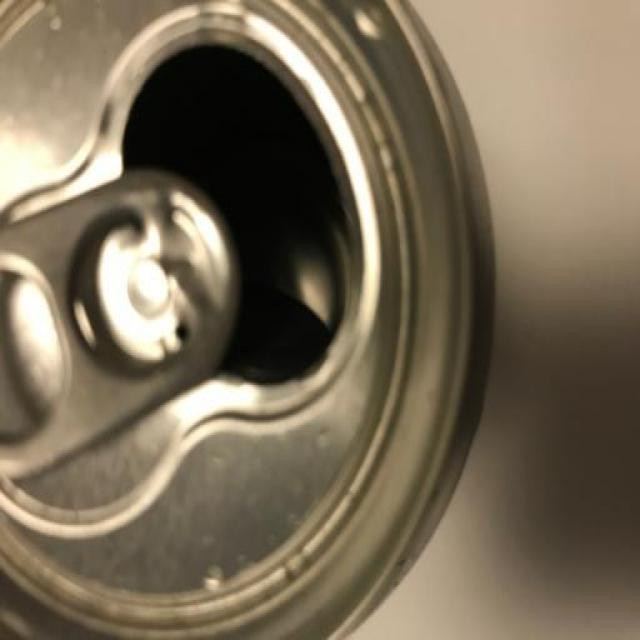metel: (7, 9, 441, 631)
